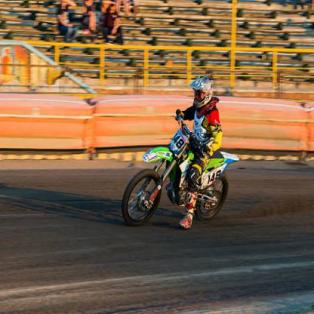Motocicleta: (115, 124, 236, 226)
